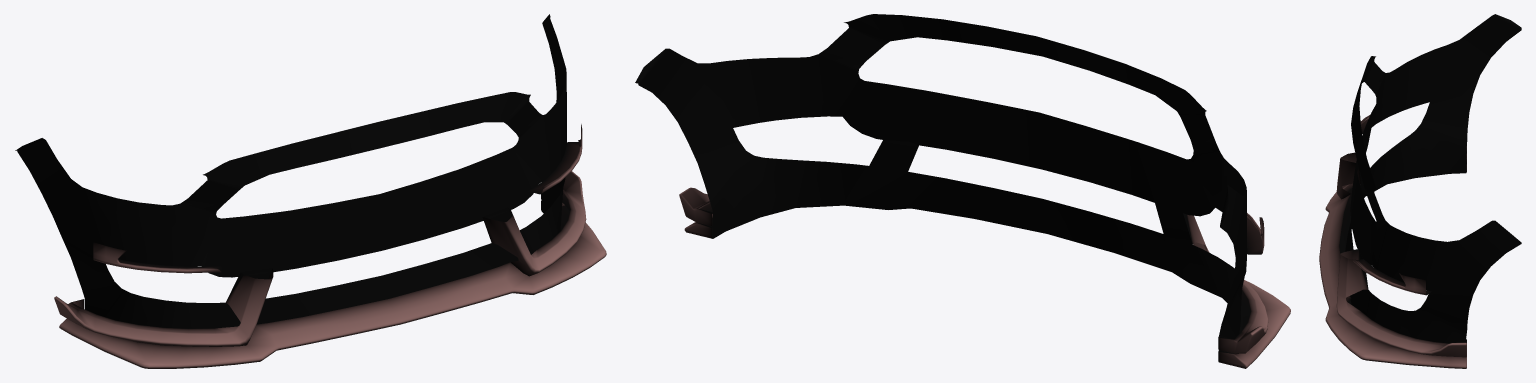
The model's file is Mustang16_FB_03_Trim.fbx.
3 views of the same model, side by side, from view 1: azimuth 30°, elevation 25°; view 2: azimuth 150°, elevation 25°; view 3: azimuth 270°, elevation 25° (orthographic). The views are drawn at different scales.
Visible parts, largest first — view 1: Mustang16_FB_03_Trim; view 2: Mustang16_FB_03_Trim; view 3: Mustang16_FB_03_Trim.
Boxes of the visible parts, bbox=[...] form: Mustang16_FB_03_Trim: bbox=[15, 14, 606, 368]; Mustang16_FB_03_Trim: bbox=[635, 14, 1290, 368]; Mustang16_FB_03_Trim: bbox=[1319, 14, 1521, 368].
Bounding box in the file's own units: 183 × 63.24 × 72.56.
